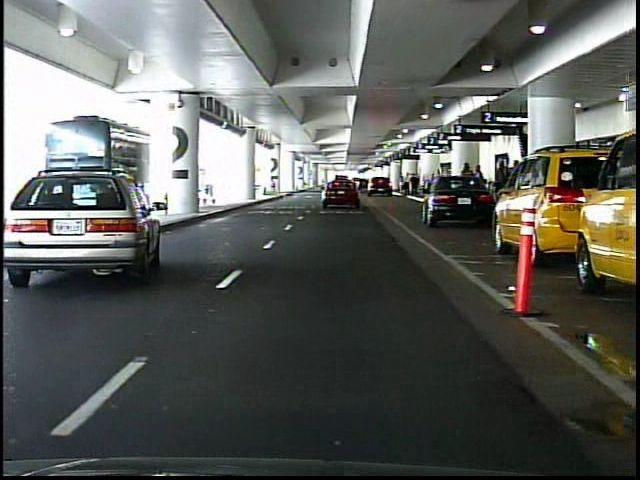person: (460, 160, 476, 207), (473, 163, 487, 206), (403, 171, 412, 197), (411, 173, 419, 197), (398, 174, 405, 190)
